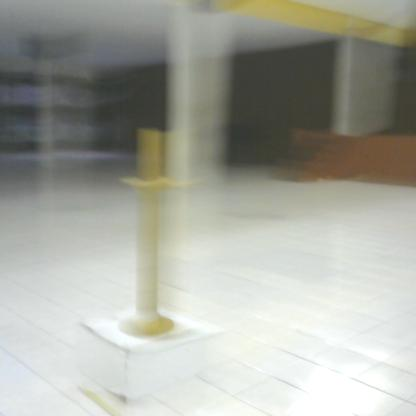pole: (116, 122, 192, 347)
